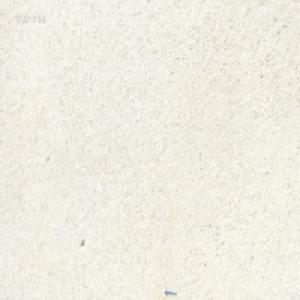Nail: (163, 285, 176, 293)
